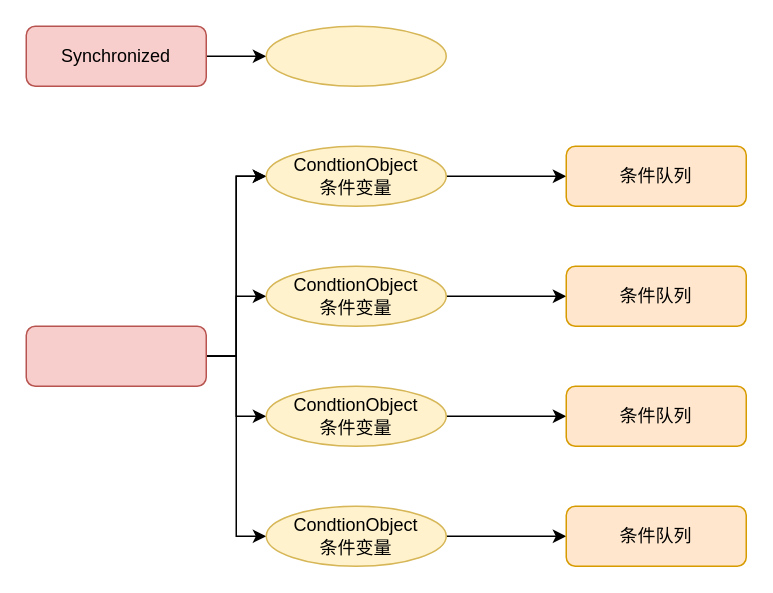
Some shapes in this 773 by 593 pixel diagram are drawn without their labels. Here are the shapes that lost their labels. From the top down, the box of each, then its label:
(265, 25, 446, 86): Object 锁对象
(25, 325, 206, 386): AQS
